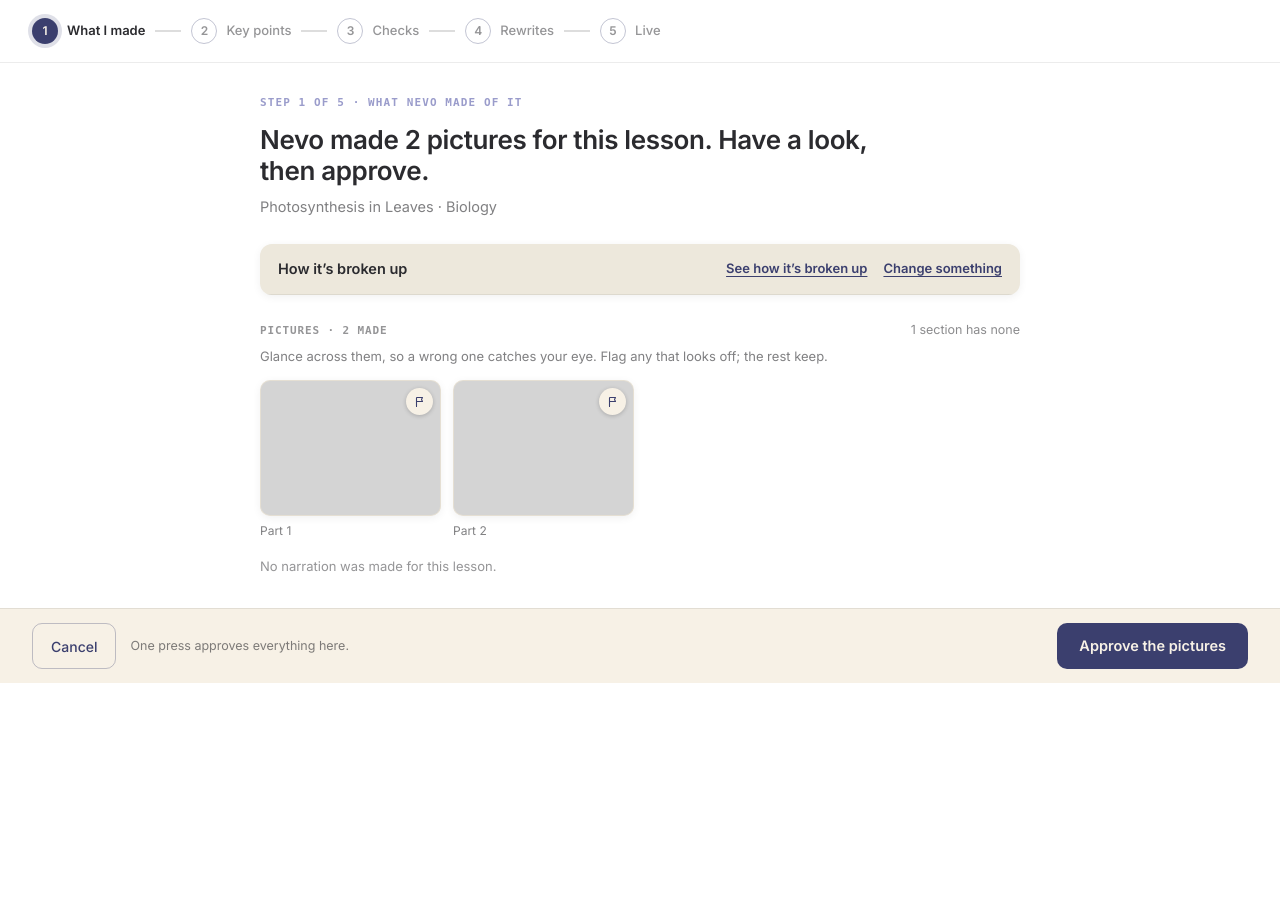
Test case: a flagged picture or recording that comes back remade › marks nothing while the remake is still being made
Expected: the navigation bar named "Lesson review steps" is shown, [0,0,1279,63]
Click the button named "Flag the picture for Part 2": click(612, 402) [599,388,626,415]
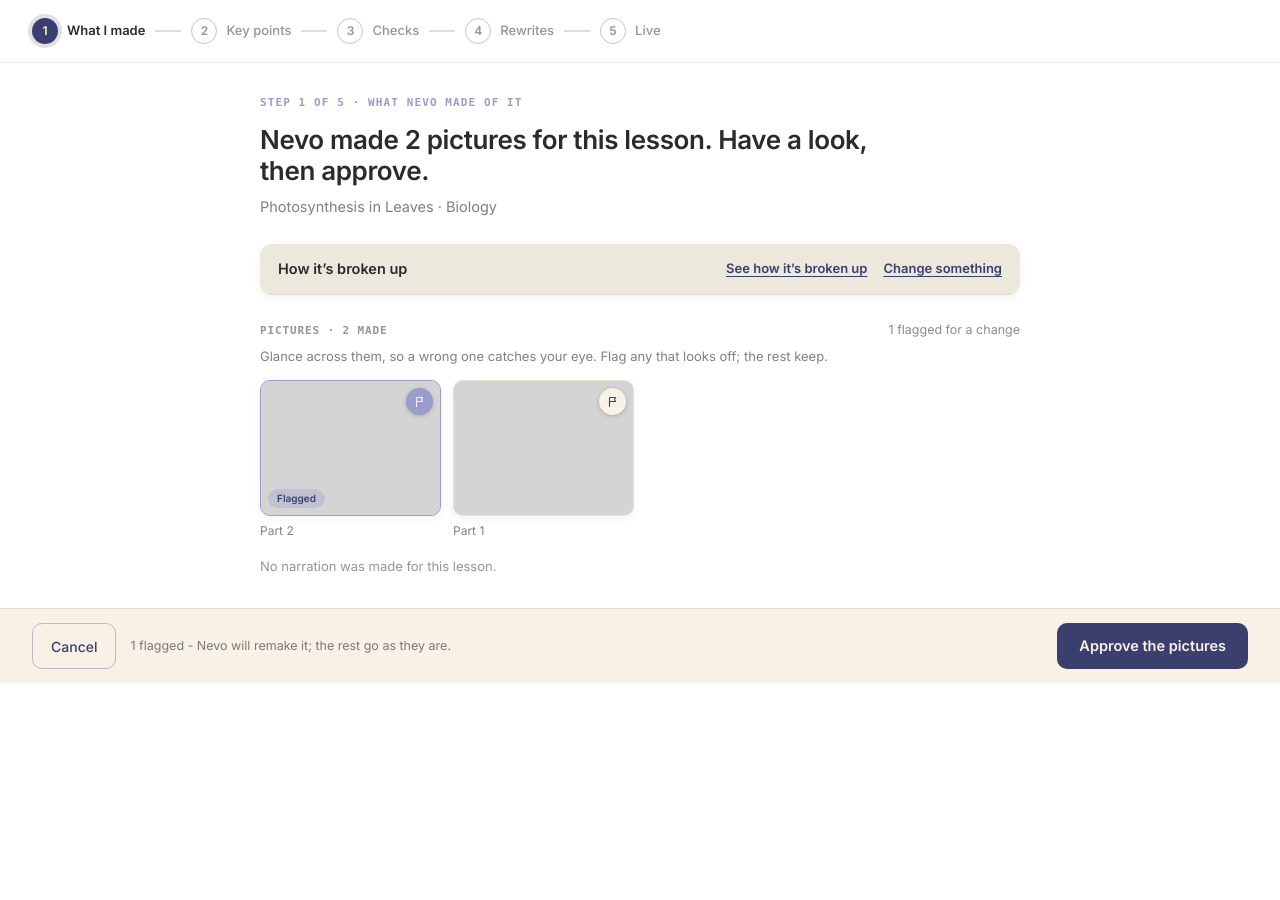
Click the button "Approve the pictures": click(1153, 646) [1057,623,1248,669]
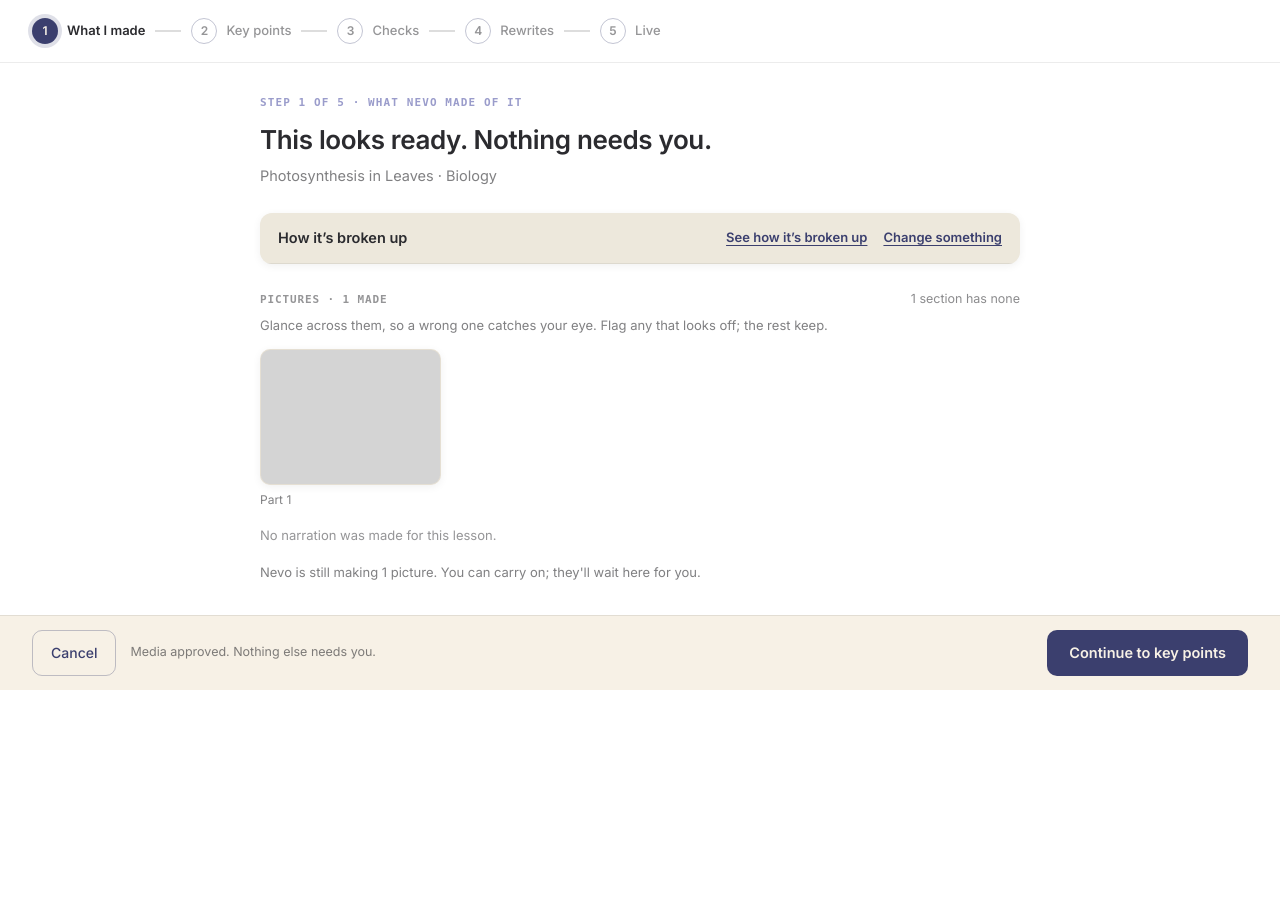
Result: the text "Nevo is still making 1 picture. You can carry on; they'll wait here for you." is shown at [260,564,701,580]
